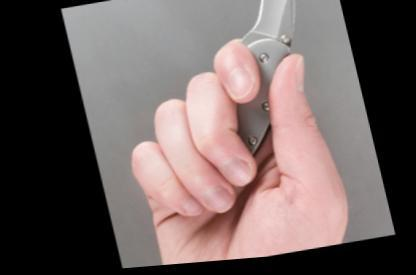knife: (152, 0, 349, 202)
